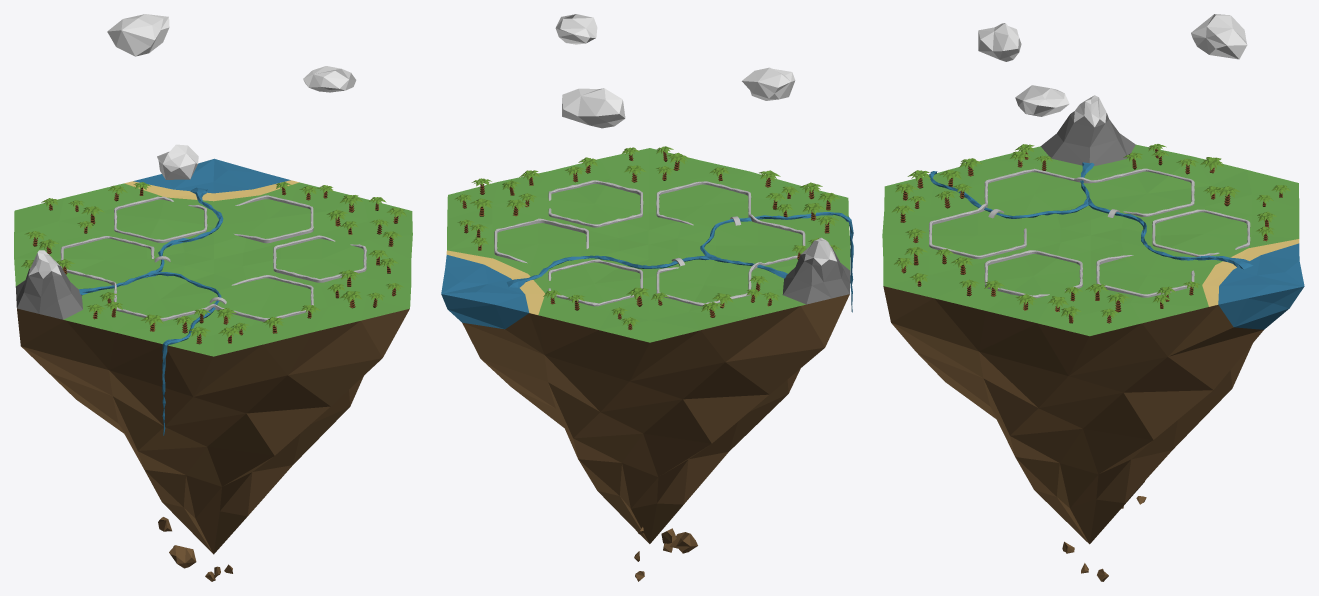
The model's file is Island_v002.fbx.
The picture shows the model from 3 angles, left to right: view 1: azimuth 30°, elevation 25°; view 2: azimuth 150°, elevation 25°; view 3: azimuth 270°, elevation 25°; orthographic projection. The views are drawn at different scales.
Visible parts, largest first — view 1: geo_Island, geo_Trees, geo_Walls, geo_Mountain, geo_CloudA, geo_River, geo_CloudB, geo_CloudC; view 2: geo_Island, geo_Trees, geo_Walls, geo_Mountain, geo_River, geo_CloudA, geo_CloudB, geo_CloudC; view 3: geo_Island, geo_Trees, geo_Walls, geo_Mountain, geo_CloudA, geo_River, geo_CloudB, geo_CloudC.
Boxes of the visible parts, x1,y1,x2,y2 form: geo_Island: [14, 158, 412, 581]; geo_Trees: [21, 181, 406, 344]; geo_Walls: [60, 195, 366, 321]; geo_Mountain: [15, 250, 82, 319]; geo_CloudA: [107, 14, 169, 56]; geo_River: [79, 187, 223, 435]; geo_CloudB: [157, 144, 198, 179]; geo_CloudC: [303, 66, 356, 92]; geo_Island: [441, 148, 850, 581]; geo_Trees: [454, 146, 841, 329]; geo_Walls: [494, 180, 805, 306]; geo_Mountain: [782, 237, 850, 304]; geo_River: [506, 212, 853, 312]; geo_CloudA: [562, 88, 625, 128]; geo_CloudB: [742, 67, 795, 100]; geo_CloudC: [555, 14, 597, 44]; geo_Island: [882, 144, 1304, 581]; geo_Trees: [891, 144, 1290, 323]; geo_Walls: [929, 168, 1250, 298]; geo_Mountain: [1040, 95, 1135, 166]; geo_CloudA: [1191, 14, 1247, 59]; geo_River: [929, 162, 1252, 269]; geo_CloudB: [978, 23, 1021, 61]; geo_CloudC: [1015, 85, 1069, 116].
Size of the model in its own units: 238 by 305 by 210.
